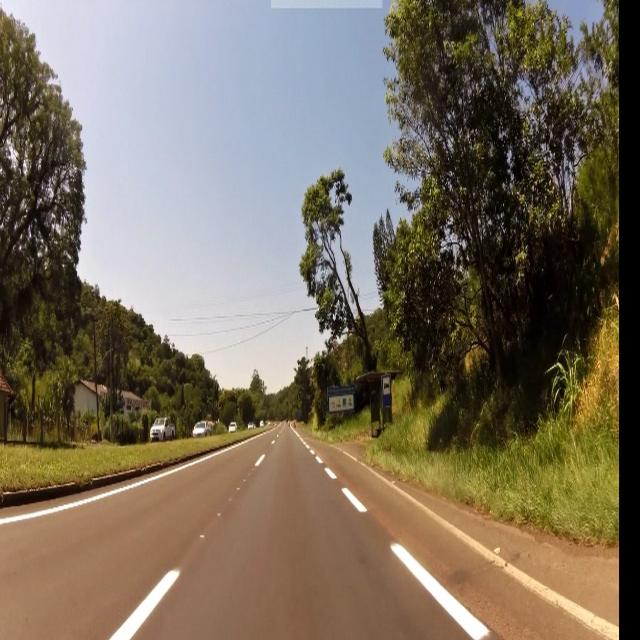S-14: (382, 375, 392, 409)
